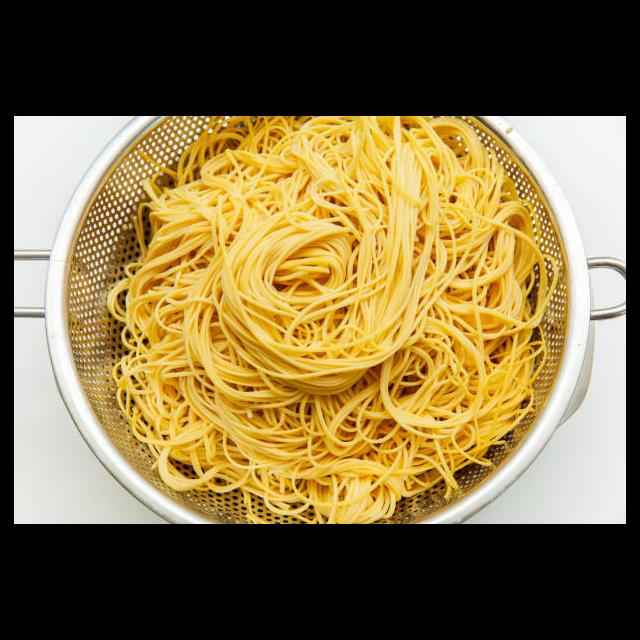noodles: (106, 116, 559, 524)
